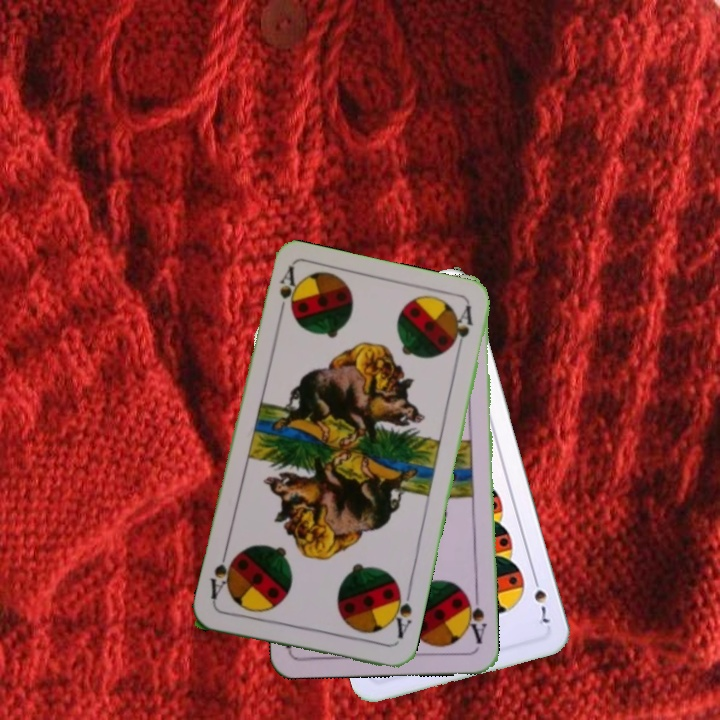S7: (529, 571, 553, 630)
SA: (385, 586, 415, 641), (462, 589, 490, 647), (274, 264, 299, 323)
